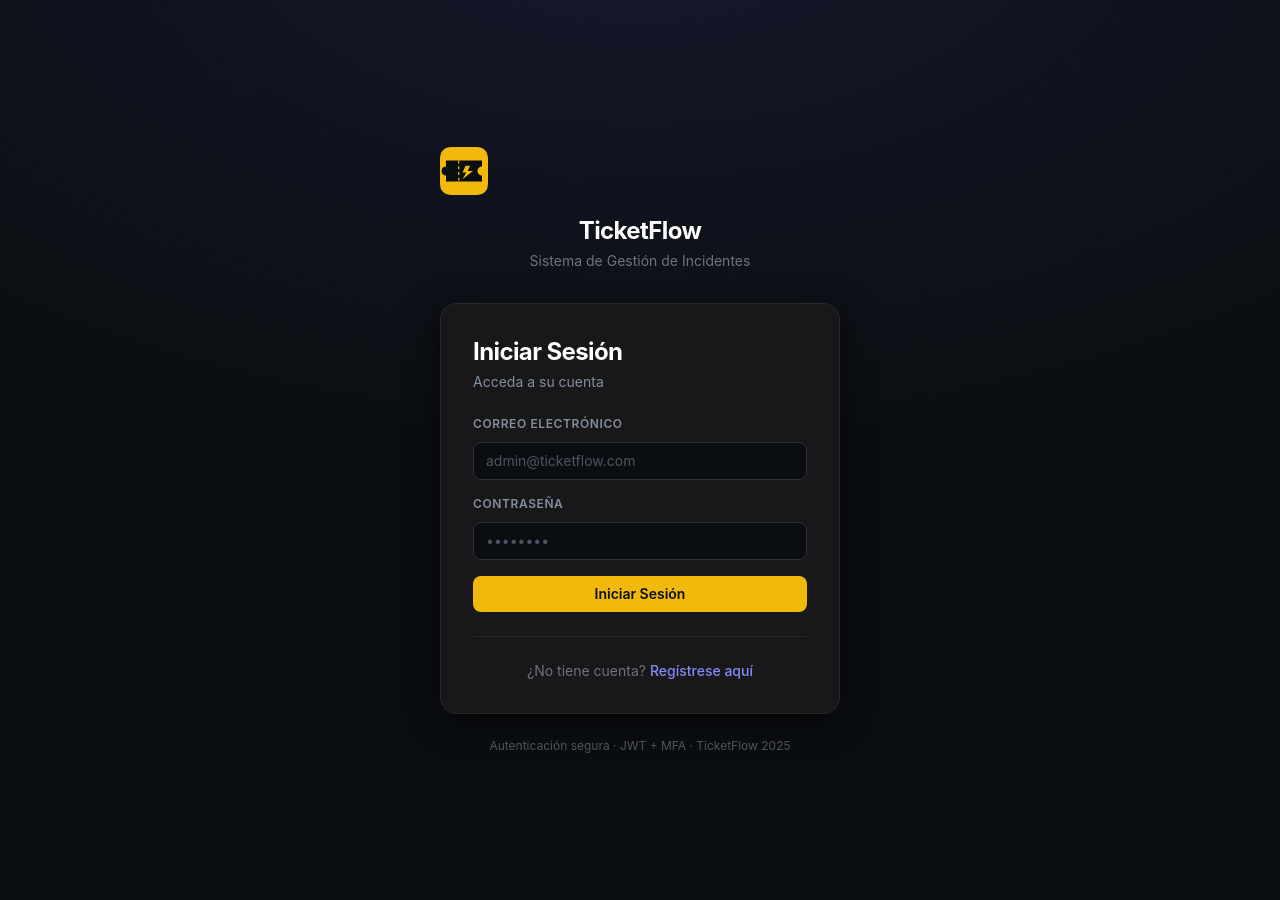
Test case: Login — flujo completo › muestra mensaje de error cuando la API rechaza con mensaje específico
The image size is (1280, 900).
In the field with placeholder "admin@ticketflow.com": {"x": 640, "y": 460} [473, 442, 807, 480], type "test@test.com"
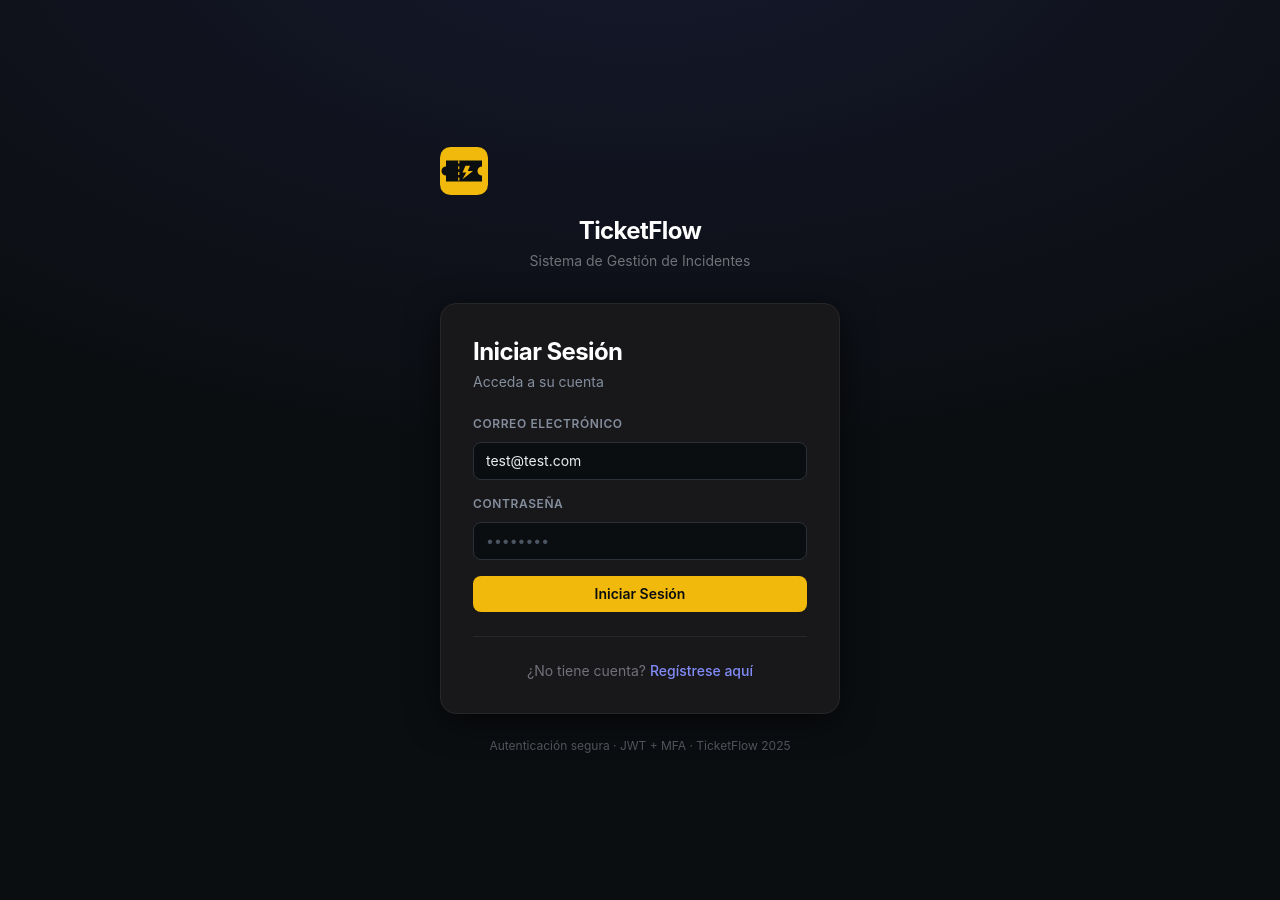
In the password field with placeholder "••••••••": {"x": 640, "y": 540} [473, 522, 807, 560], type "wrongpassword"
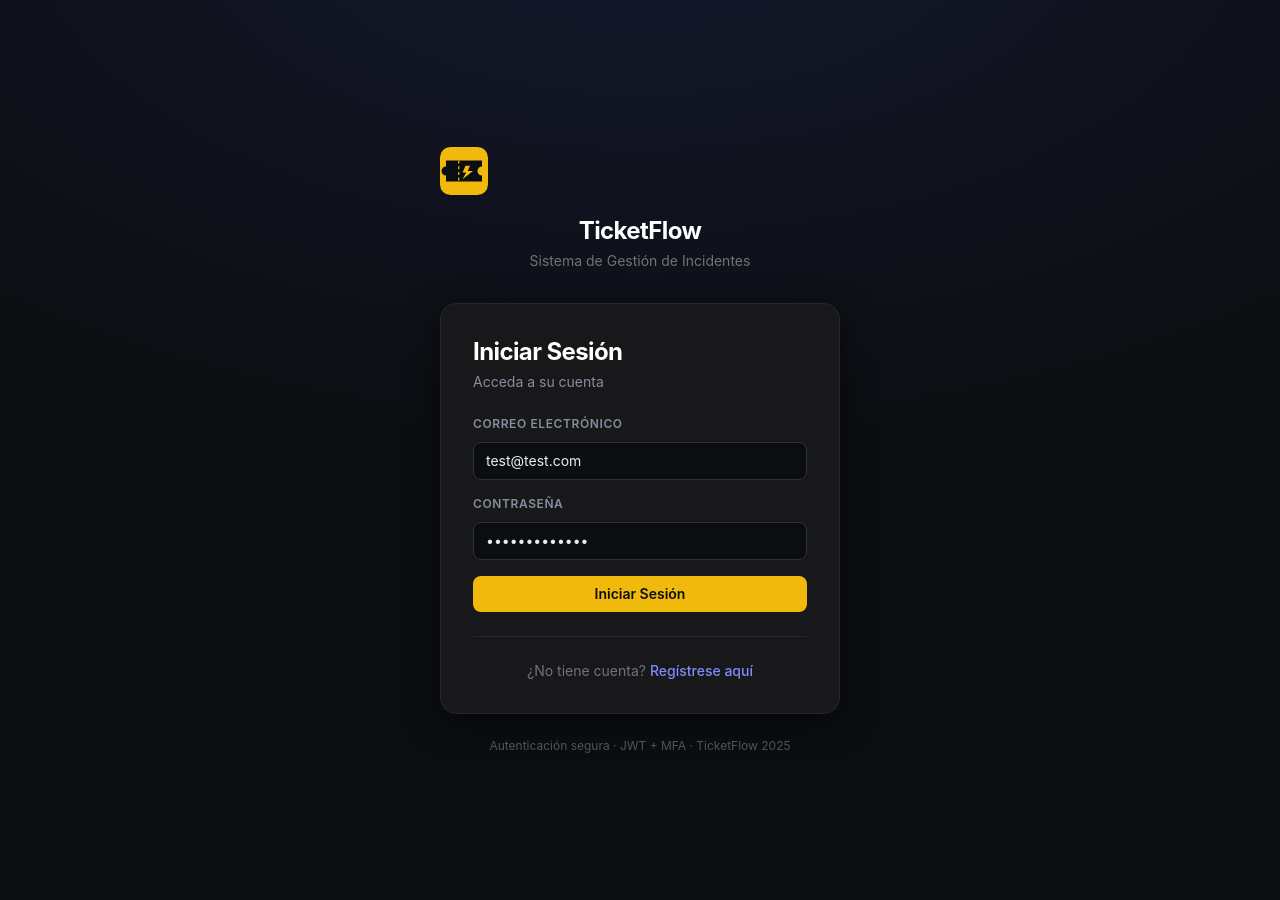
Click the button "Iniciar Sesión": {"x": 640, "y": 594} [473, 576, 807, 612]
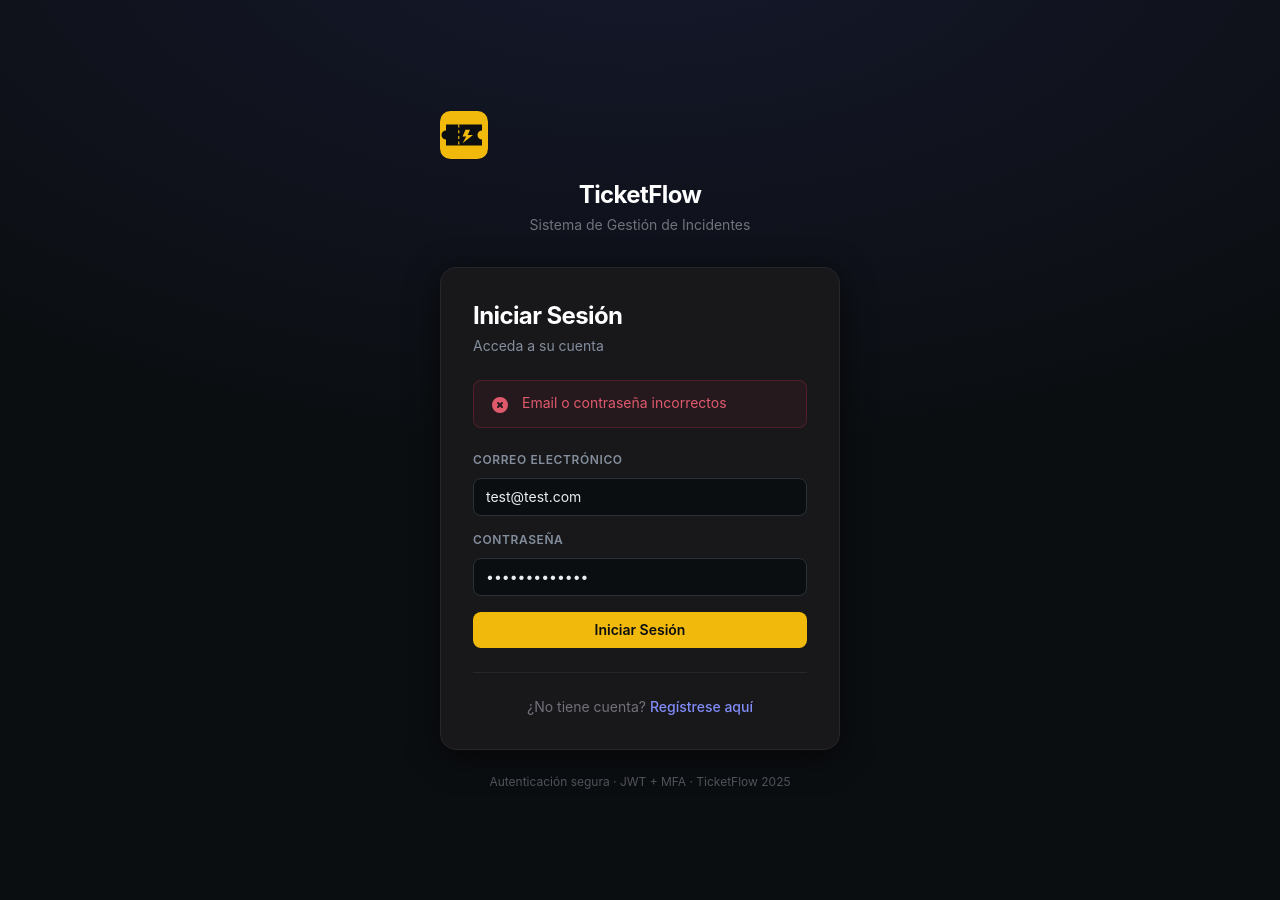
Now the text "Email o contraseña incorrectos" is shown, box [522, 392, 727, 412]
